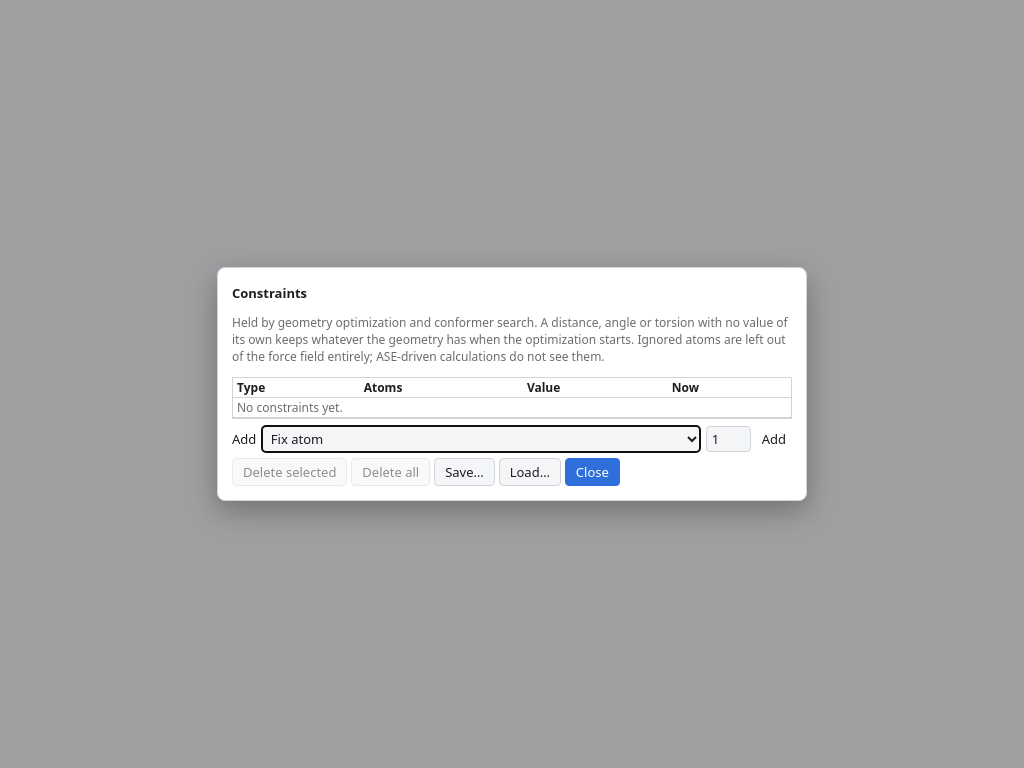
an angle needs three atoms and says so
Select "Angle" in the dropdown labelled "Add" at (481, 438), box left=261, top=424, right=701, bottom=452
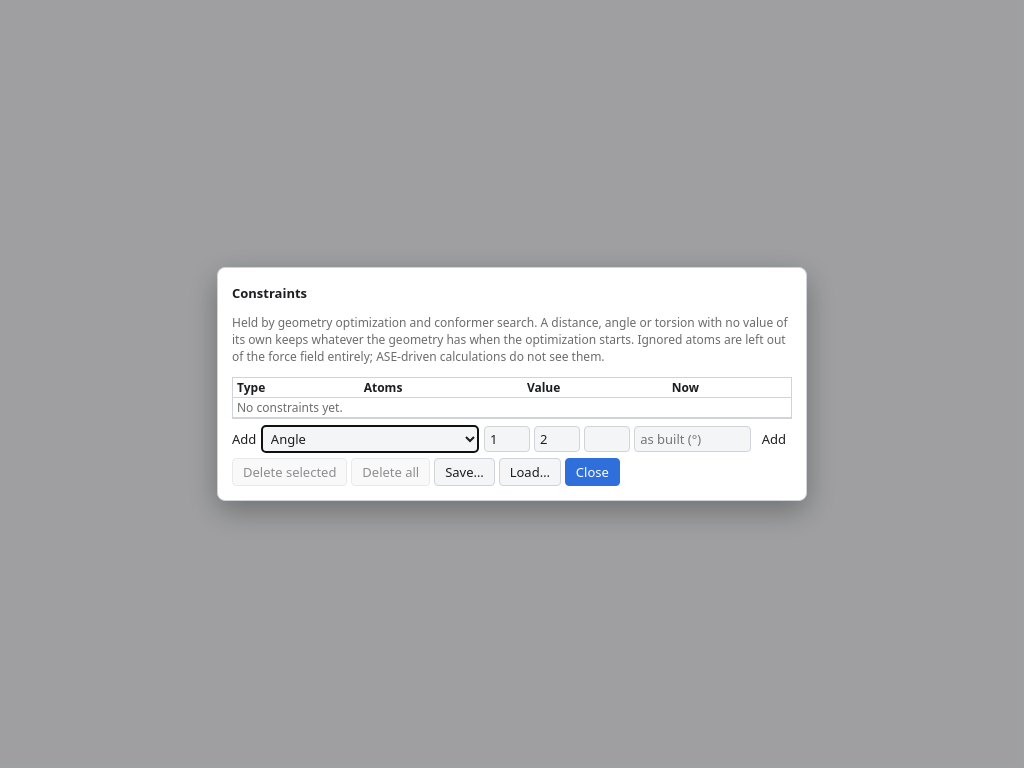
Click the button "Add" at (774, 438), box left=756, top=428, right=792, bottom=448
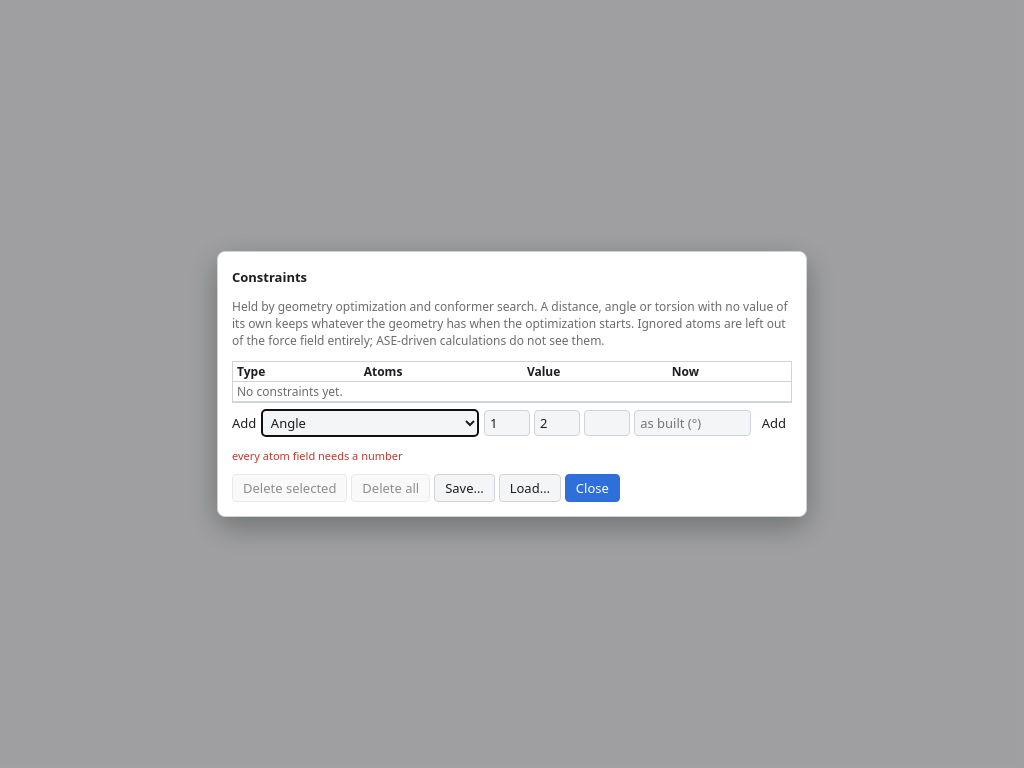
Check: the text "every atom field needs a number" is shown, box left=232, top=448, right=402, bottom=463
